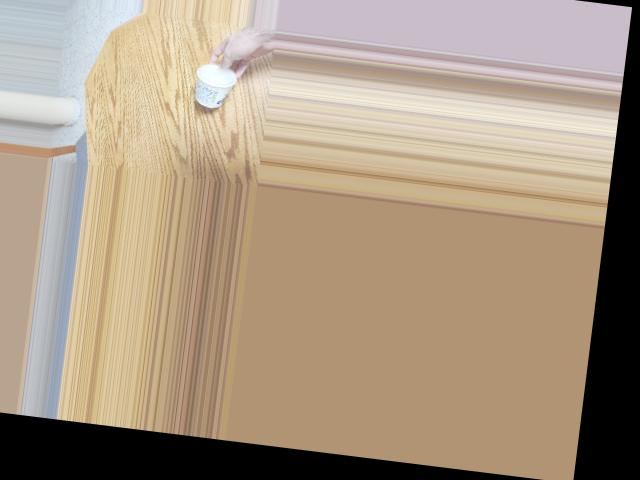cotage: (189, 60, 239, 108)
